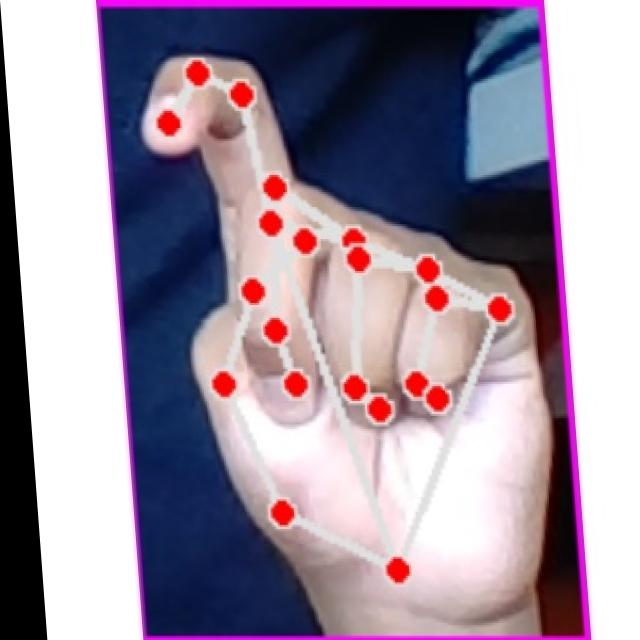Z: (125, 46, 562, 618)
